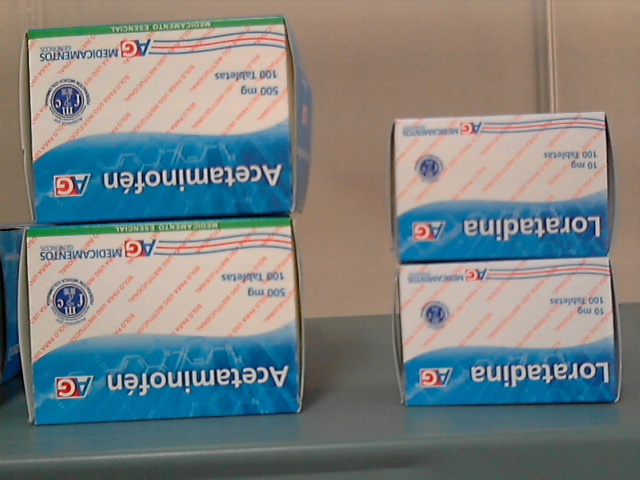AG: (30, 224, 298, 424), (28, 18, 287, 221), (397, 113, 606, 259), (404, 262, 618, 402)
